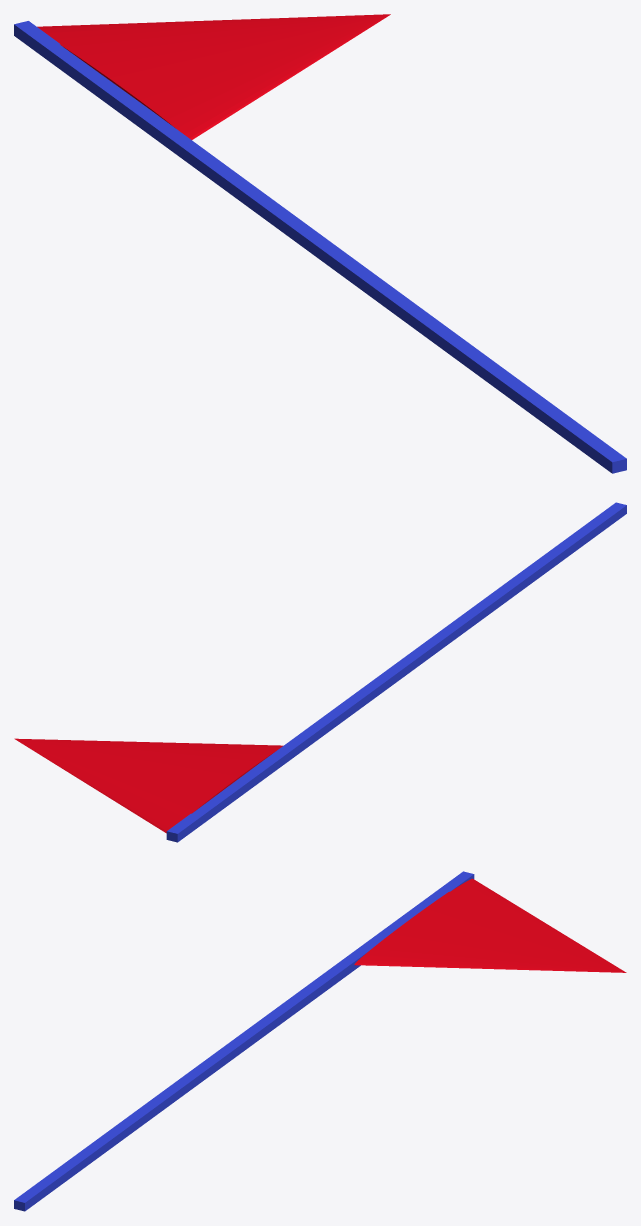
File: flag.fbx
3 views of the same model, one above another, from view 1: azimuth 30°, elevation 25°; view 2: azimuth 150°, elevation 25°; view 3: azimuth 330°, elevation 25° (orthographic). The views are drawn at different scales.
Visible parts, largest first — view 1: Конус, Cube; view 2: Конус, Cube; view 3: Конус, Cube.
Boxes of the visible parts, x1,y1,x2,y2 form: Конус: (37, 14, 390, 139); Cube: (14, 21, 626, 473); Конус: (14, 738, 283, 833); Cube: (166, 502, 626, 842); Конус: (354, 878, 626, 972); Cube: (14, 871, 474, 1211).
Bounding box in the file's own units: 141 × 6.02 × 491.
